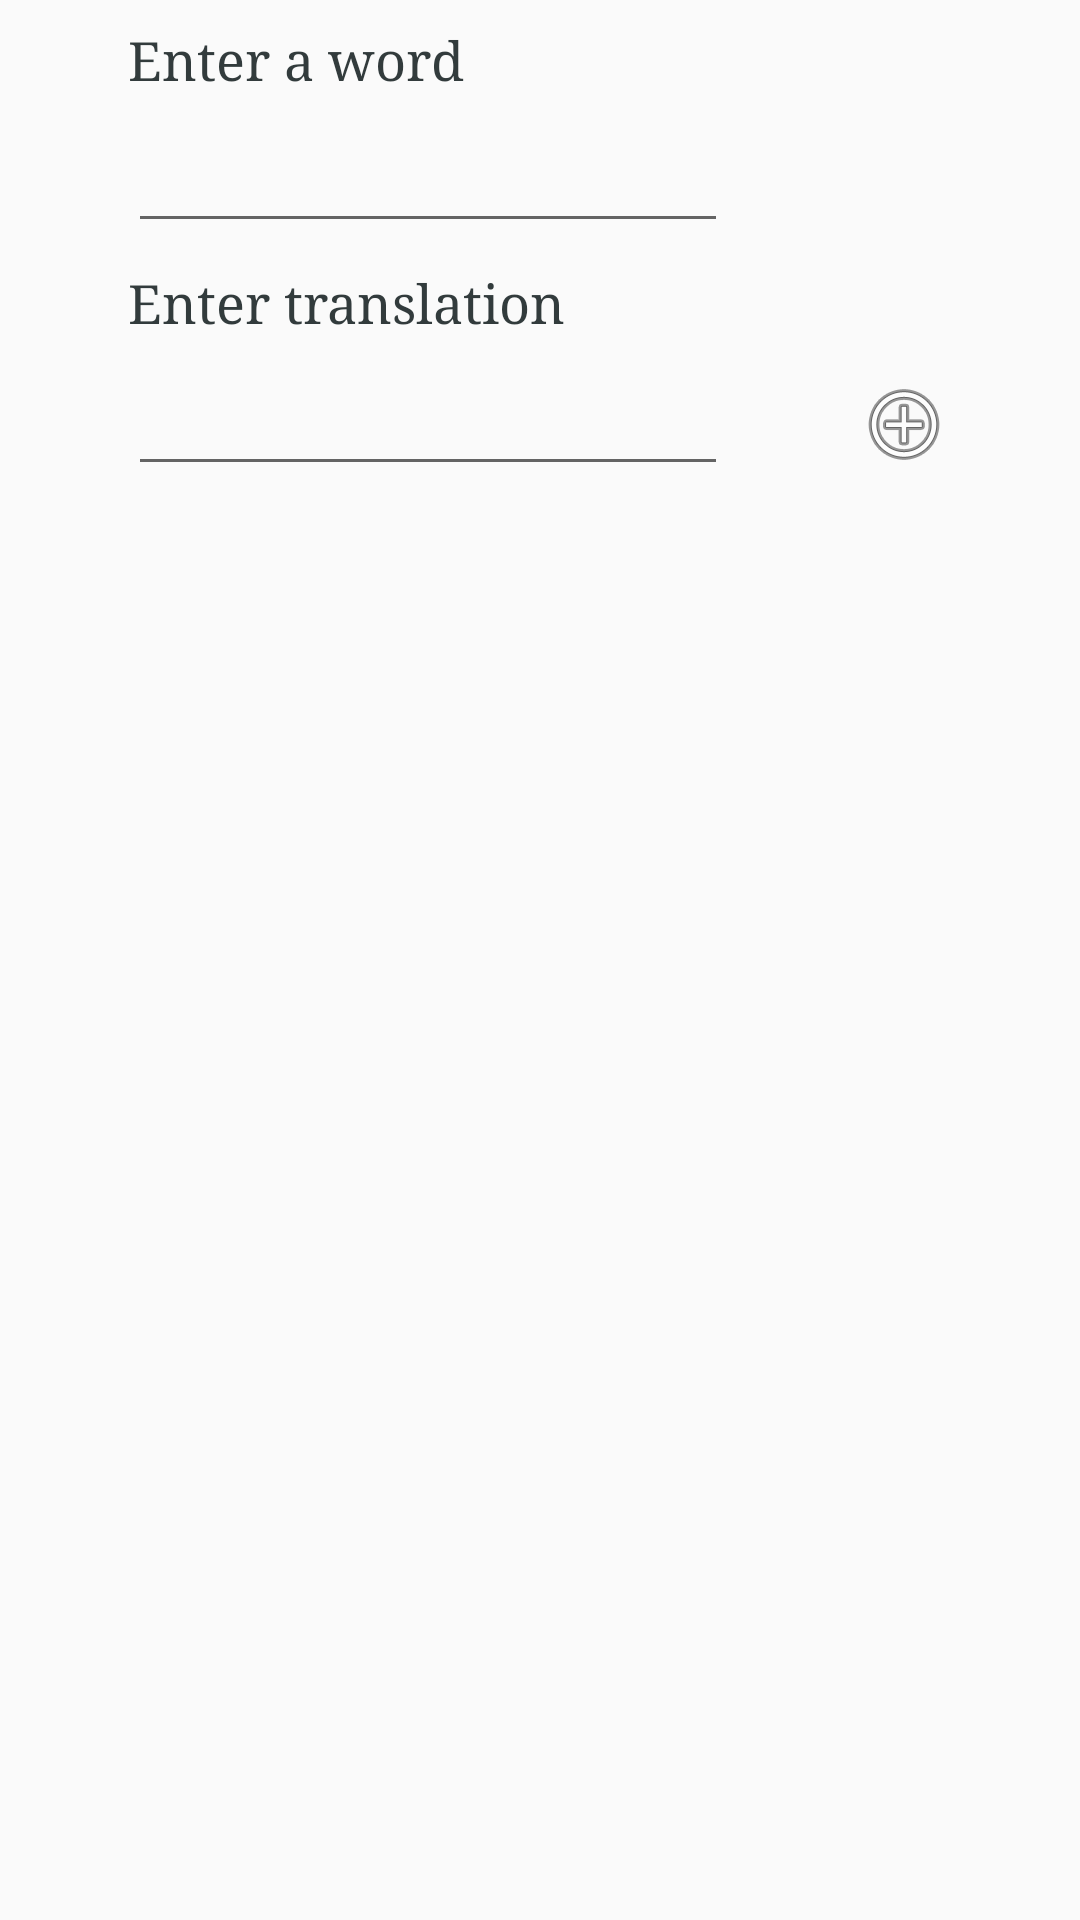

Icon bounding boxes for this 1080px x 1920px phone screenshot, format (x1, y1, x2, y2):
add: (868, 389, 940, 460)
